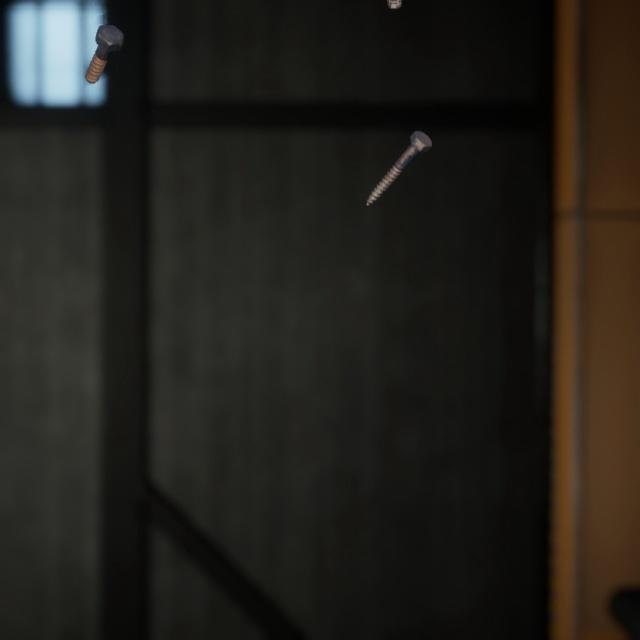bolt: (362, 113, 436, 196), (80, 10, 128, 78)
